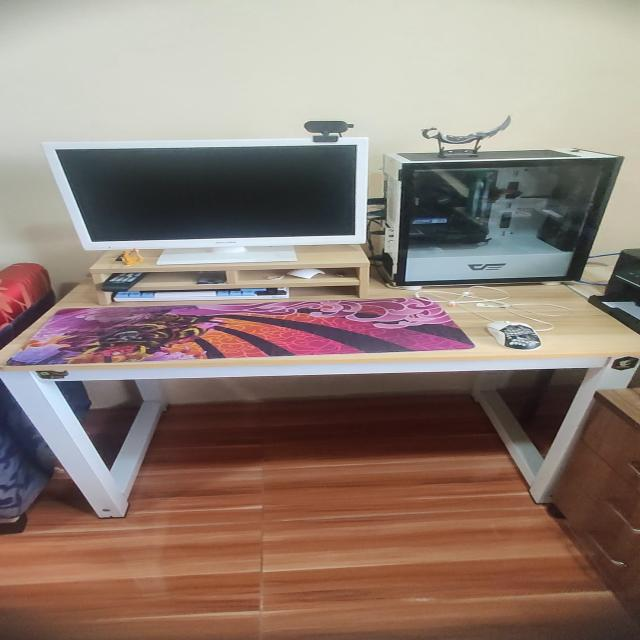table: (0, 269, 640, 520)
